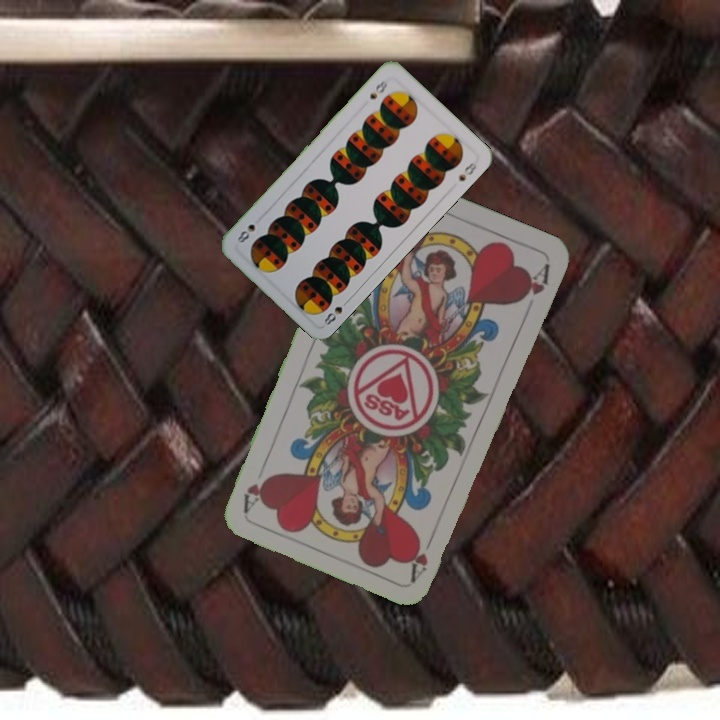HA: (406, 526, 439, 583)
S8: (320, 295, 352, 328), (366, 76, 390, 102)
